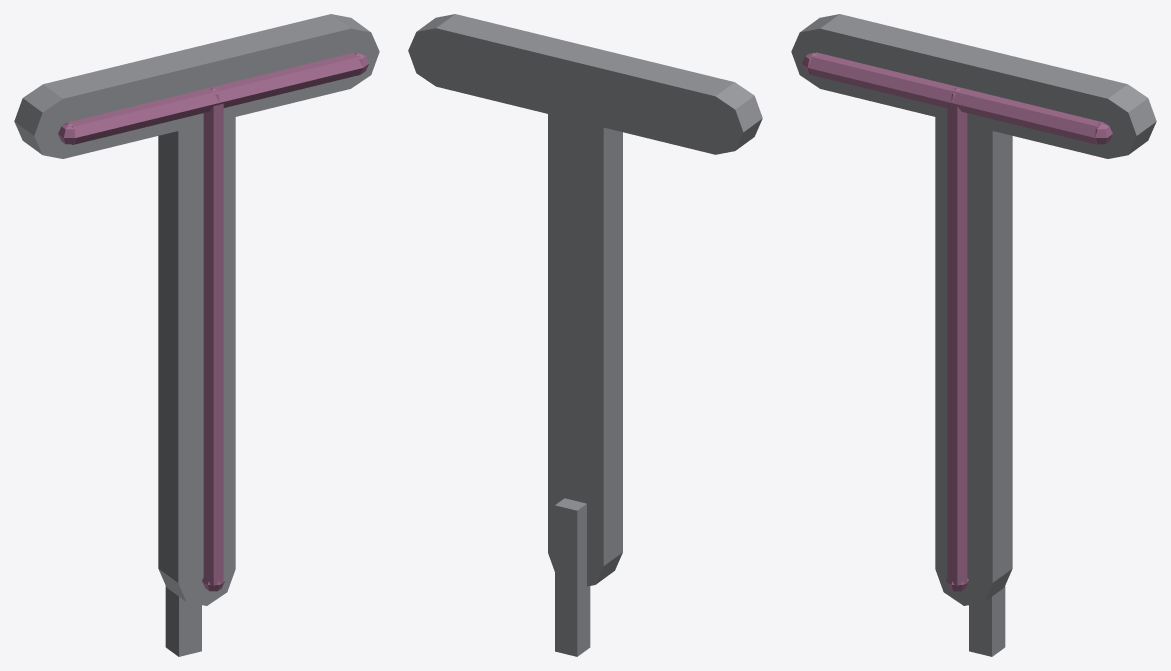
The model's file is HJ_Neon_T.fbx.
3 views of the same model, side by side, from view 1: azimuth 30°, elevation 25°; view 2: azimuth 150°, elevation 25°; view 3: azimuth 330°, elevation 25° (orthographic). The views are drawn at different scales.
Parts seen in each view (by area): view 1: HJ_Neon_T; view 2: HJ_Neon_T; view 3: HJ_Neon_T.
Part boxes in pixels (<box>): HJ_Neon_T: <box>14,14,379,656</box>; HJ_Neon_T: <box>408,14,762,656</box>; HJ_Neon_T: <box>791,14,1156,656</box>.
Bounding box in the file's own units: 1.2 × 2 × 0.255.
